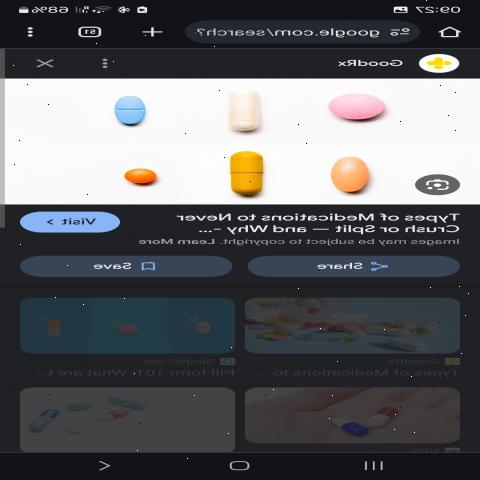Pill: (187, 84, 278, 146), (205, 152, 271, 206), (322, 150, 382, 200), (79, 91, 158, 127), (301, 92, 391, 122), (111, 167, 162, 191)
